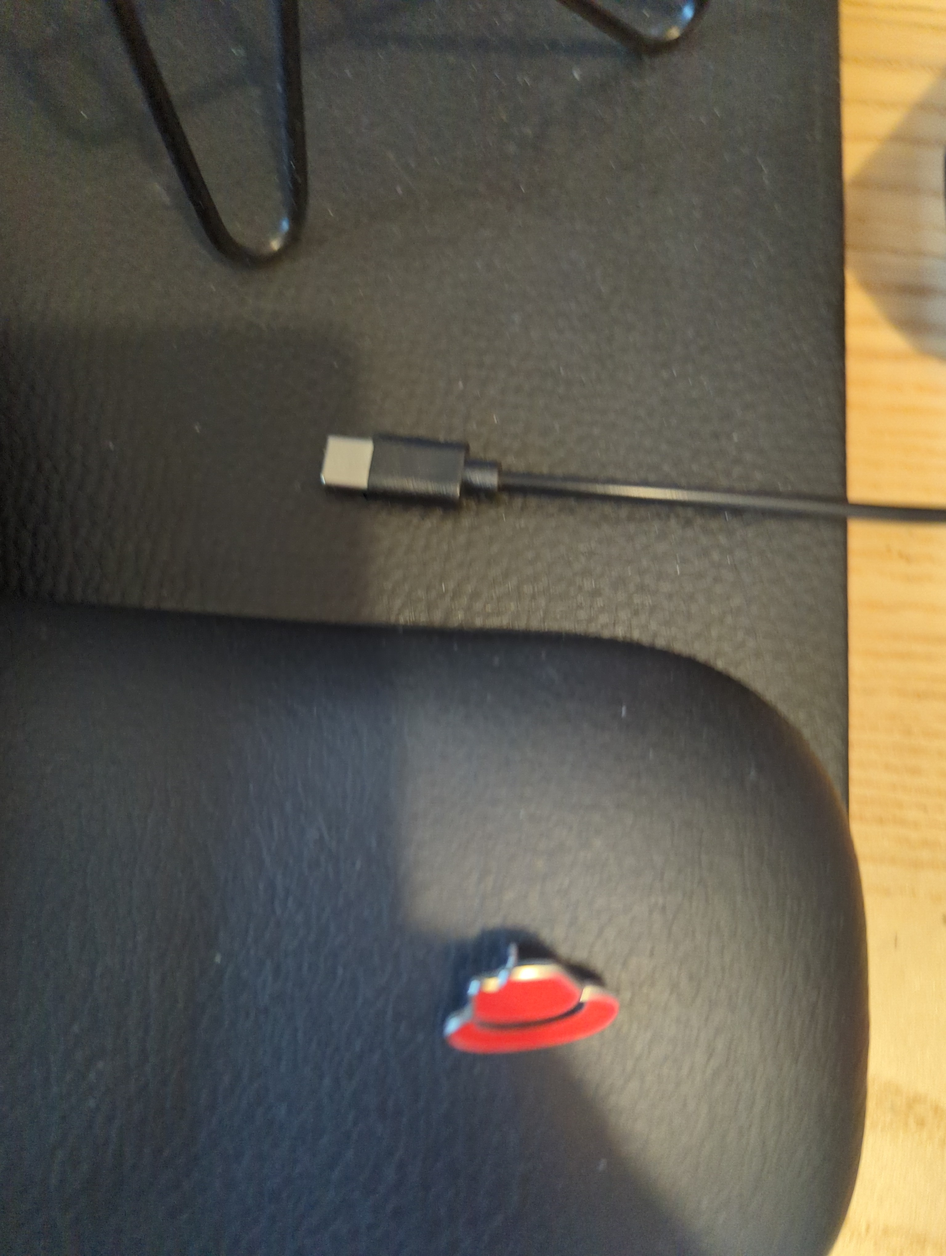Red-Hat: (370, 840, 717, 1153)
